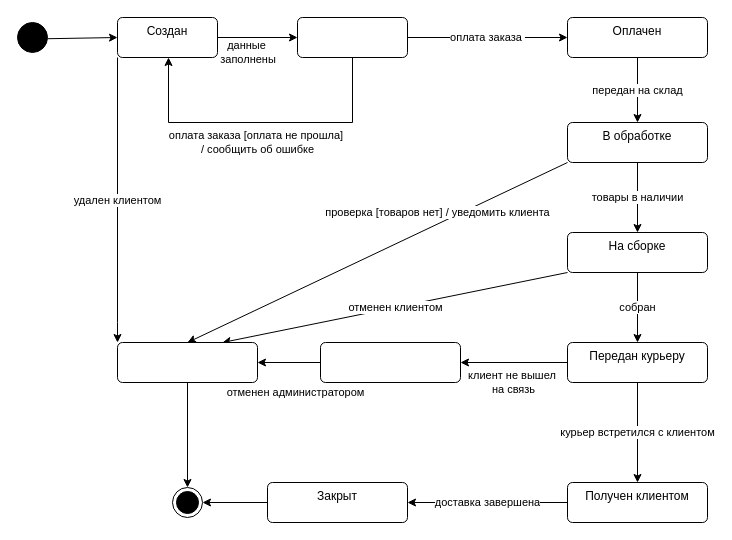
Some shapes in this 732 by 540 pixel diagram are drawn without their labels. The centre of each missing label's shape, as x and y in pixels:
Возвращен на склад: point 390,362
Ожидание оплаты: point 352,37
Отменен: point 187,362
